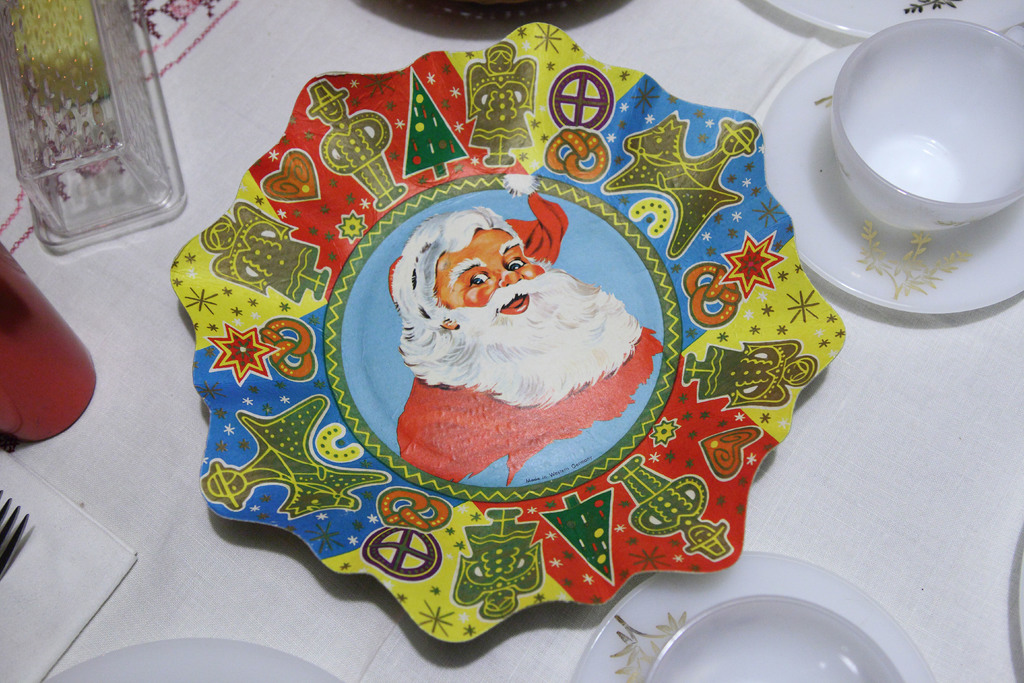plate: (167, 23, 844, 645)
